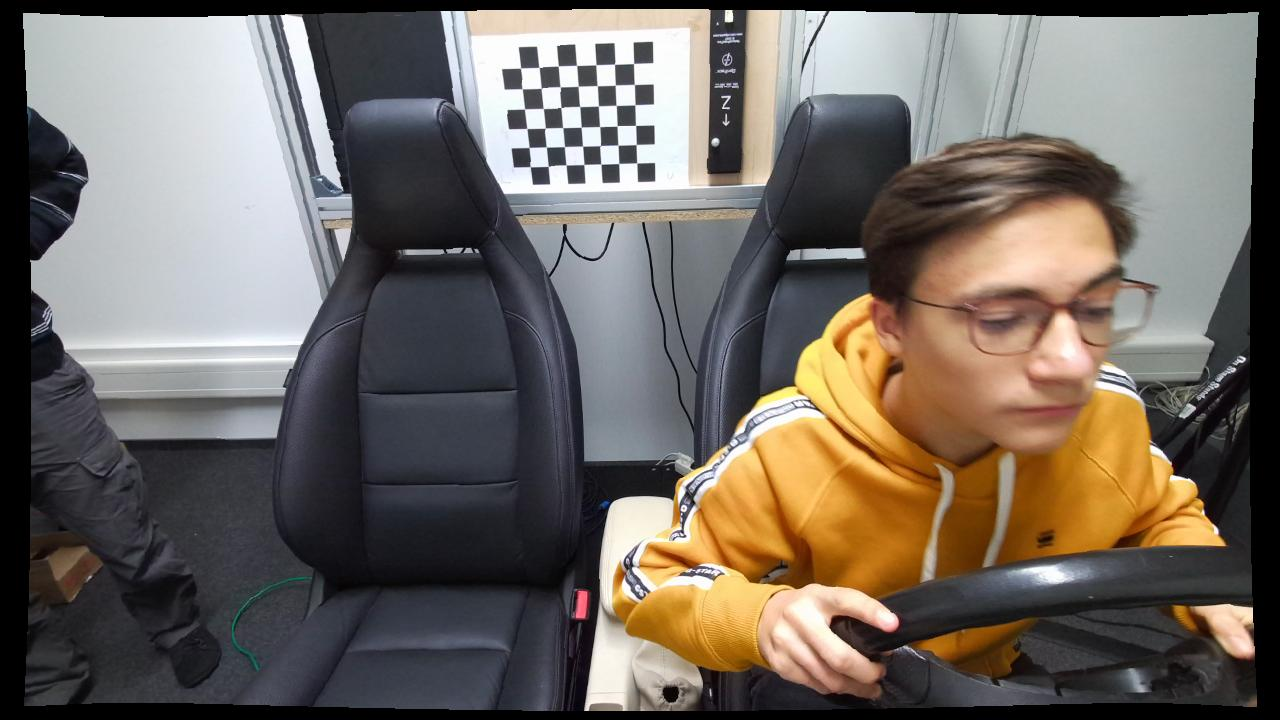Distracted: (608, 125, 1169, 712)
